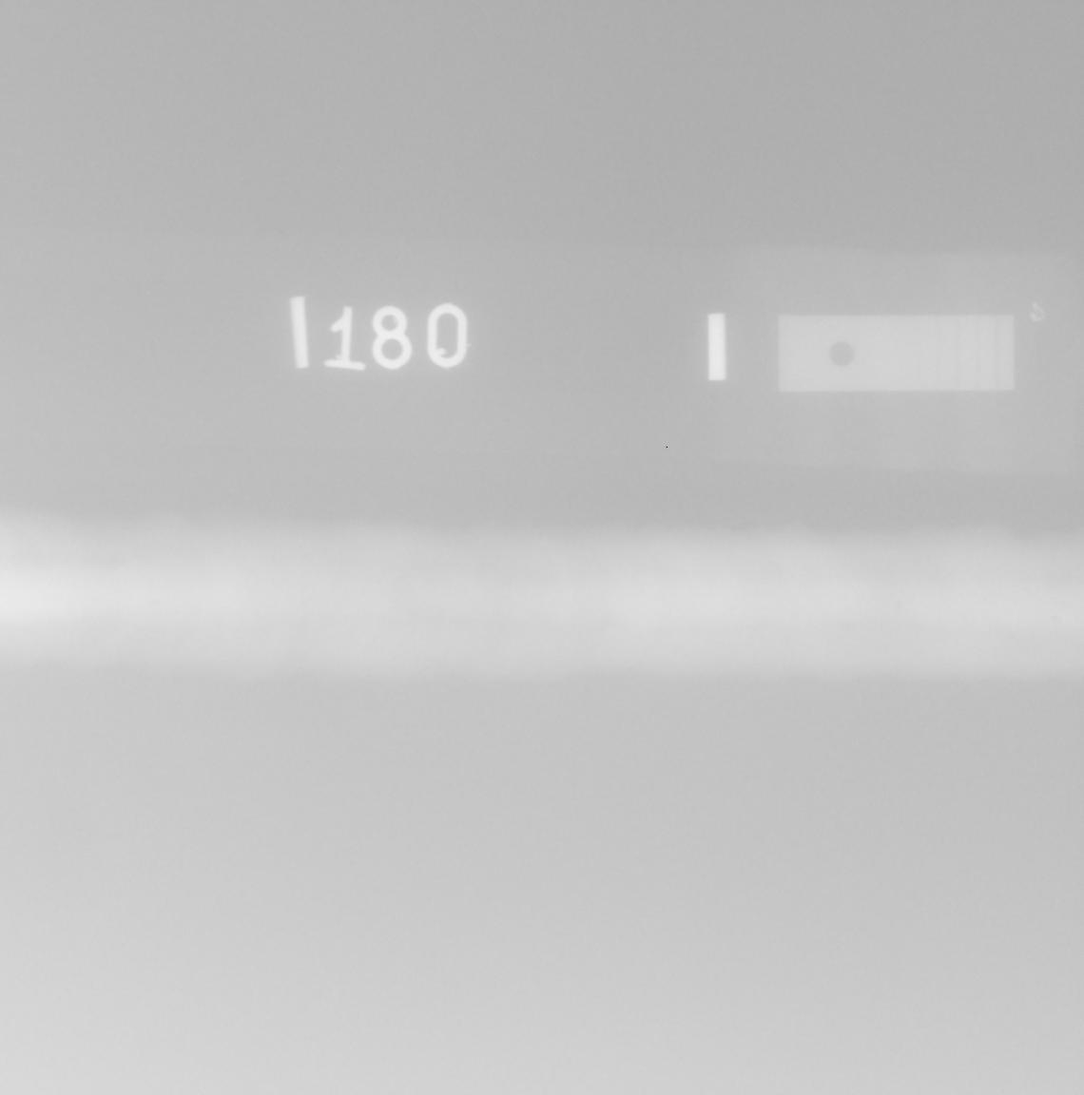Pore/Porosity: (689, 628, 700, 635), (1050, 615, 1062, 621), (895, 600, 904, 608), (728, 608, 736, 611), (152, 600, 158, 604), (174, 610, 178, 614), (983, 597, 987, 600)
Reference Standard 1: (779, 315, 1014, 391)
